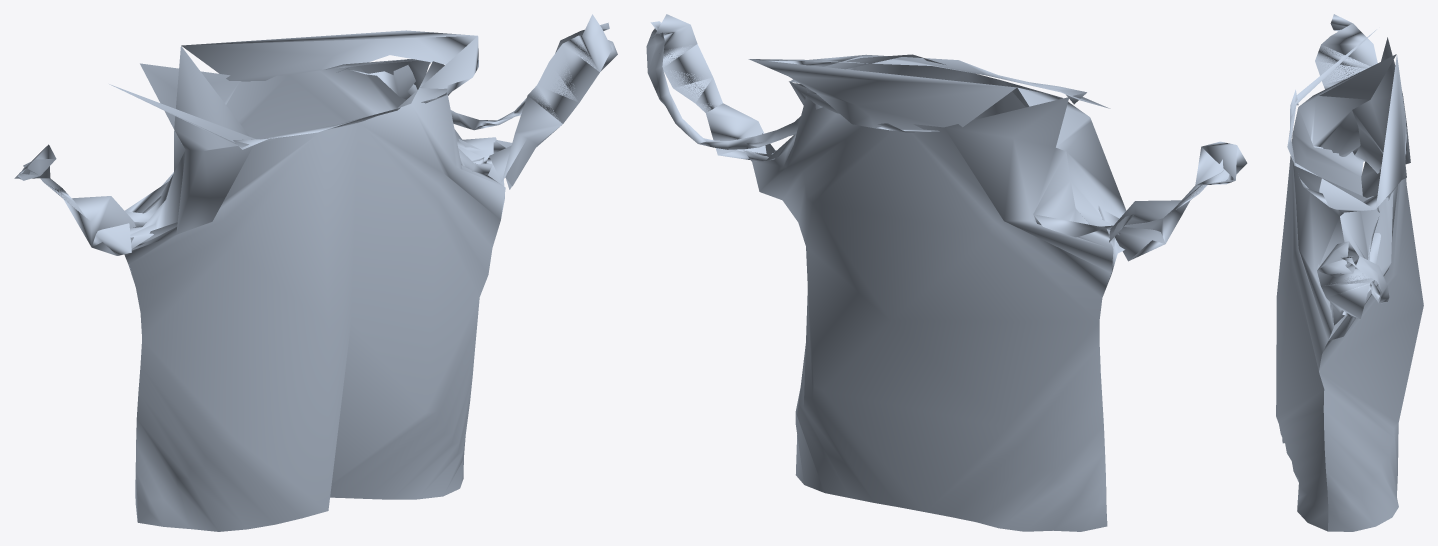
File: frame_023.glb
3 renders of one model, left to right at view 1: azimuth 30°, elevation 25°; view 2: azimuth 150°, elevation 25°; view 3: azimuth 270°, elevation 25°, orthographic. The views are drawn at different scales.
Parts seen in each view (by area): view 1: panel.front, panel.neck_band, panel.back, panel.sleeve.right, panel.sleeve.left; view 2: panel.back, panel.neck_band, panel.front, panel.sleeve.right, panel.sleeve.left; view 3: panel.back, panel.front, panel.neck_band, panel.sleeve.right, panel.sleeve.left.
Part boxes in pixels (x1,y1,x2,y2): panel.front: [124, 46, 505, 531]; panel.neck_band: [109, 22, 609, 149]; panel.back: [125, 59, 504, 521]; panel.sleeve.right: [489, 14, 617, 189]; panel.sleeve.left: [14, 144, 135, 255]; panel.back: [743, 83, 1114, 531]; panel.neck_band: [646, 21, 1110, 149]; panel.front: [775, 54, 1126, 521]; panel.sleeve.right: [652, 14, 775, 159]; panel.sleeve.left: [1109, 141, 1247, 261]; panel.back: [1319, 37, 1423, 531]; panel.front: [1276, 54, 1396, 531]; panel.neck_band: [1287, 29, 1407, 303]; panel.sleeve.right: [1317, 241, 1373, 325]; panel.sleeve.left: [1315, 14, 1377, 152].
Bounding box in the file's own units: 1.06 × 0.7835 × 0.2757.
